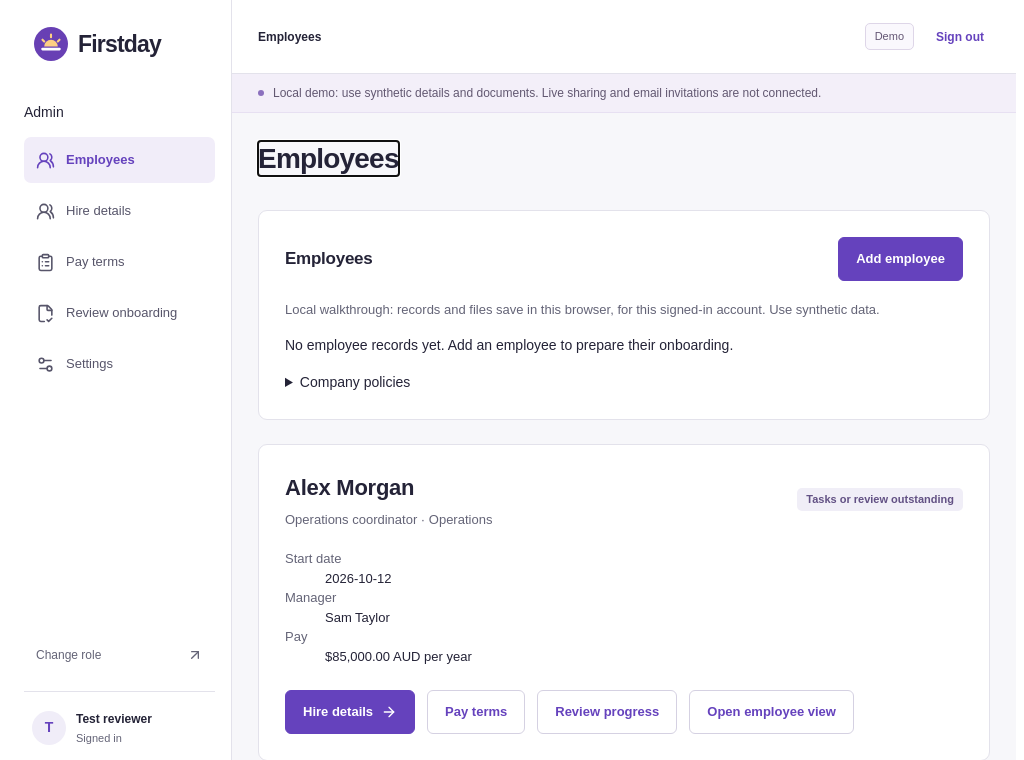
Test case: Admin local preparation and review › lists outstanding assigned tasks and policies instead of allowing early completion
Click the button "Review onboarding": (120, 313) [24,290,215,336]
(page scrolled)
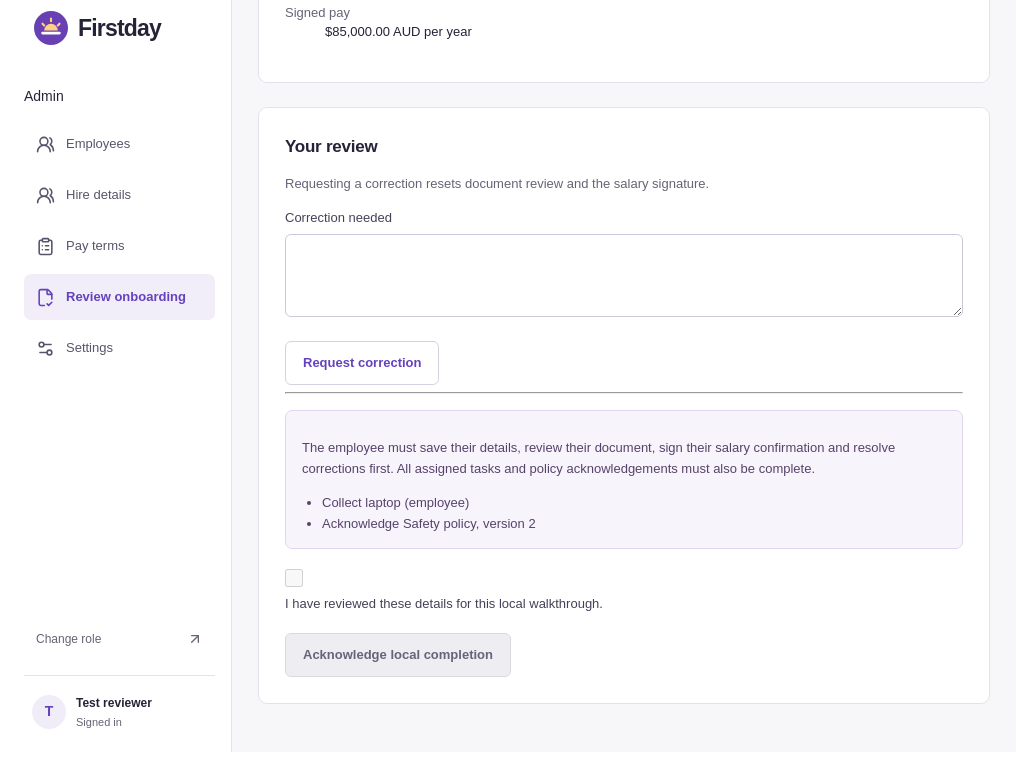
Expected: the list item "Collect laptop (employee)" is shown, [322,495,469,510]
Expected: the list item "Acknowledge Safety policy, version 2" is shown, [322,516,536,530]
Expected: the button "Acknowledge local completion" is disabled, [285,633,511,677]
